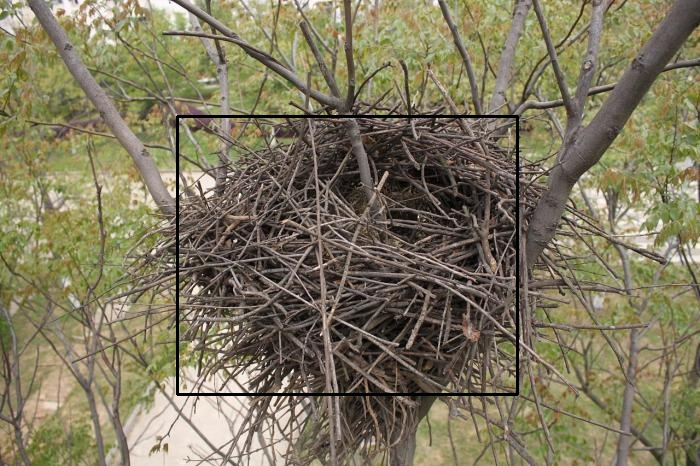bird-nest: (147, 108, 554, 446)
